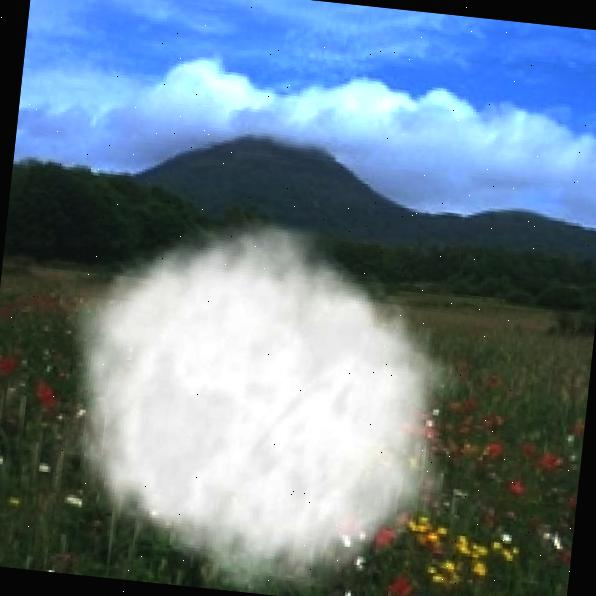smoke: (31, 187, 477, 596)
